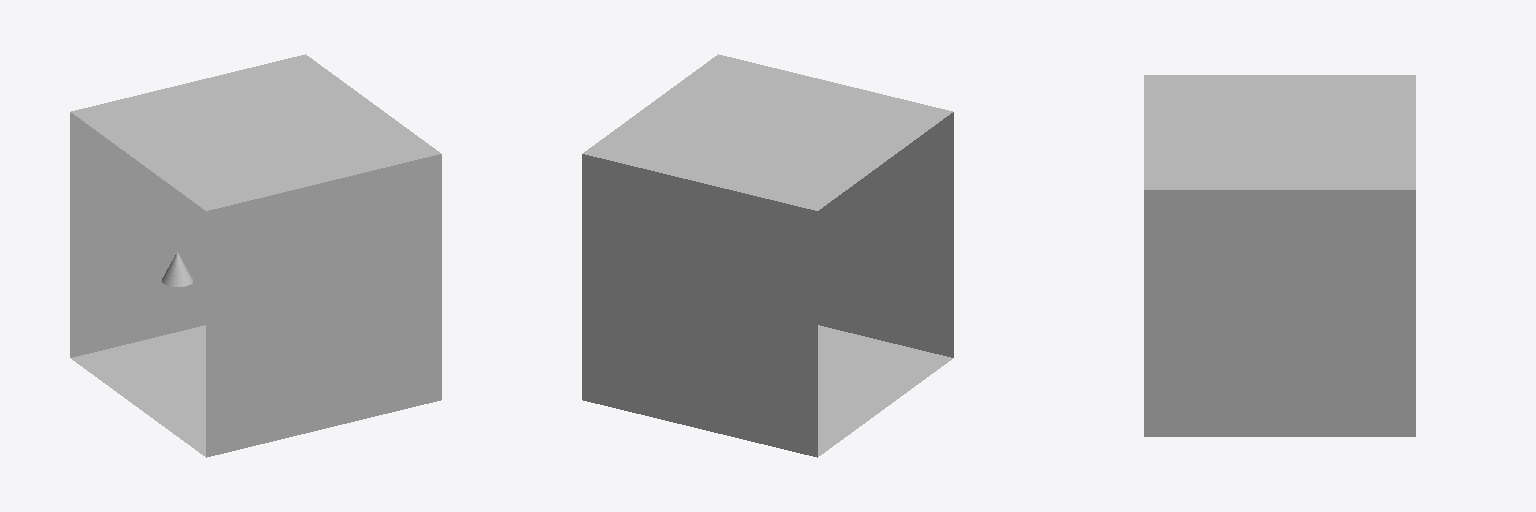
File: cornellSimple.obj
3 renders of one model, left to right at view 1: azimuth 30°, elevation 25°; view 2: azimuth 150°, elevation 25°; view 3: azimuth 270°, elevation 25°, orthographic.
Parts seen in each view (by area): view 1: Cube.002, Cone; view 2: Cube.002; view 3: Cube.002.
Boxes of the visible parts, x1=… form: Cube.002: x1=70, y1=54, x2=441, y2=457; Cone: x1=162, y1=252, x2=192, y2=286; Cube.002: x1=582, y1=54, x2=953, y2=457; Cube.002: x1=1144, y1=75, x2=1415, y2=436.
Bounding box in the file's own units: 12.84 × 12.84 × 12.84.